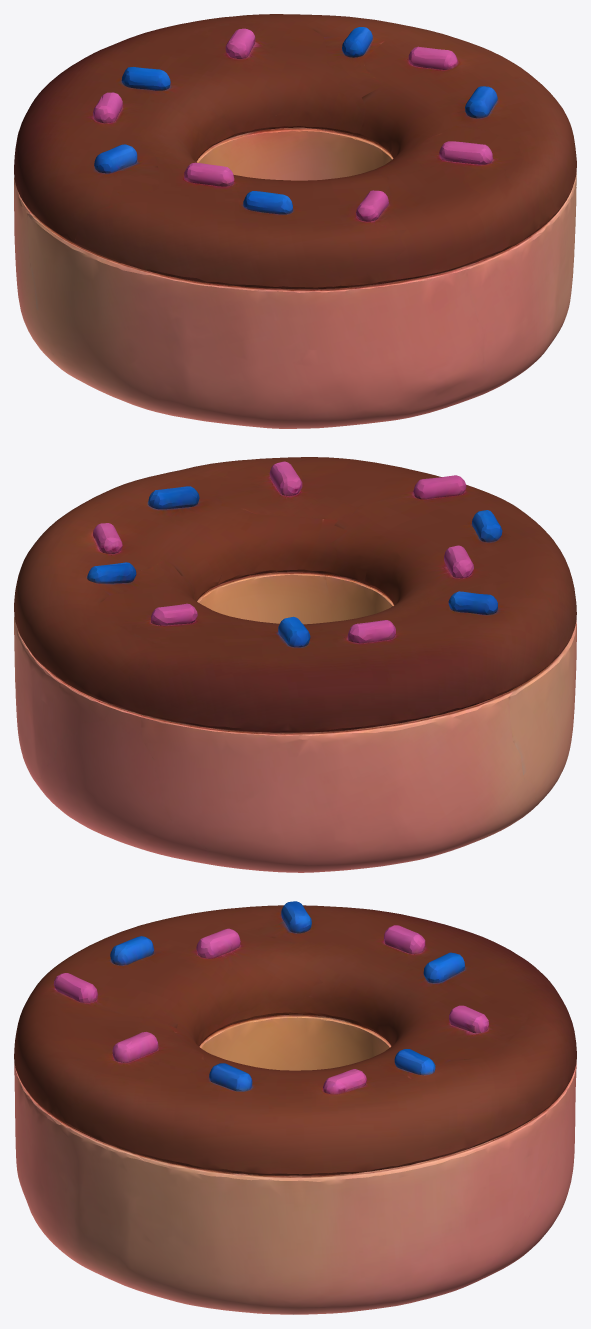
Rendered from doughnut.glb.
3 views of the same model, one above another, from view 1: azimuth 30°, elevation 25°; view 2: azimuth 150°, elevation 25°; view 3: azimuth 270°, elevation 25° (orthographic).
Visible parts, largest first — view 1: model; view 2: model; view 3: model.
Part boxes in pixels (left/top/right/bottom): model: left=14, top=14, right=576, bottom=428; model: left=14, top=457, right=576, bottom=872; model: left=14, top=901, right=576, bottom=1314.
Bounding box in the file's own units: 0.9989 × 0.4317 × 1.
1 material, 1 textured.
